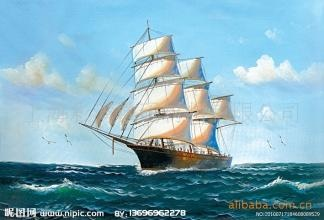fanchuan: (66, 18, 248, 174)
